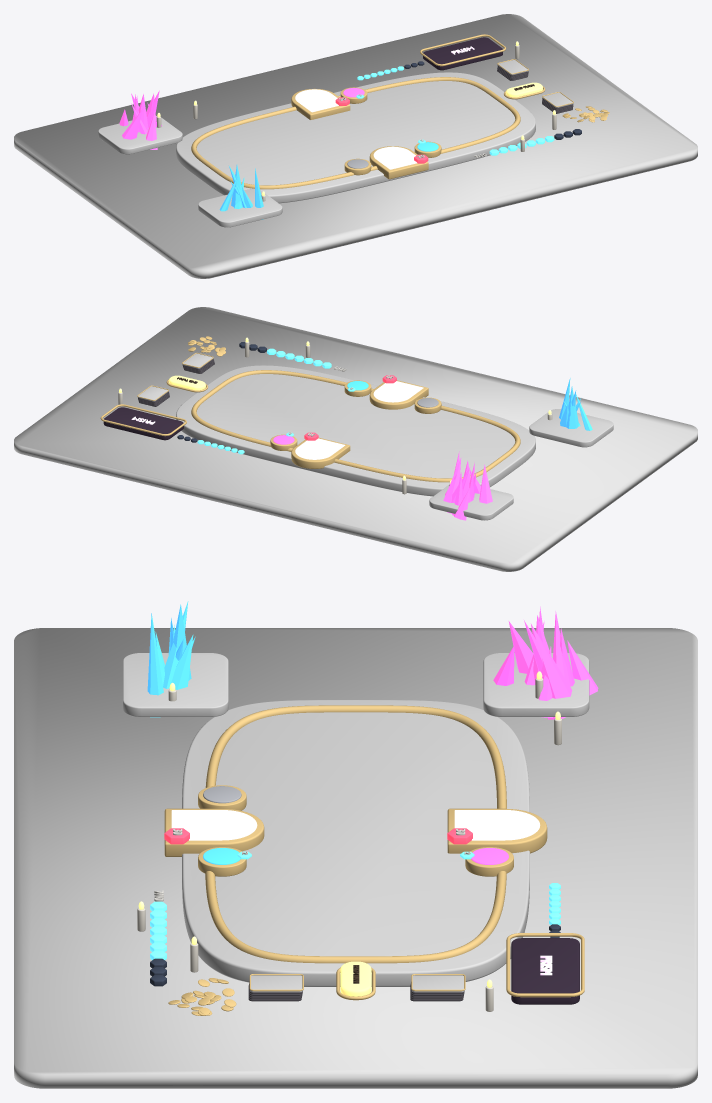
File: arena.glb
3 views of the same model, one above another, from view 1: azimuth 30°, elevation 25°; view 2: azimuth 150°, elevation 25°; view 3: azimuth 270°, elevation 25° (orthographic). The views are drawn at different scales.
Visible parts, largest first — view 1: B_ground, B_terrace, B_rim_outer, B_plinth_bl, B_plinth_tl, B_sign_panel, B_hero_portrait_opp, B_hero_portrait_player, B_hero_frame_player, B_hero_frame_opp, B_sign_frame; view 2: B_ground, B_terrace, B_rim_outer, B_plinth_bl, B_sign_panel, B_plinth_tl, B_hero_portrait_opp, B_hero_portrait_player, B_hero_frame_opp, B_hero_frame_player, B_sign_frame; view 3: B_ground, B_terrace, B_rim_outer, B_plinth_bl, B_sign_panel, B_plinth_tl, B_hero_portrait_player, B_hero_portrait_opp, B_hero_frame_player, B_hero_frame_opp, B_sign_frame, B_end_turn (+4 smaller).
Boxes of the visible parts, x1,y1,x2,y2 form: B_ground: (14,14,697,278); B_terrace: (176,72,535,203); B_rim_outer: (191,77,520,189); B_plinth_bl: (198,189,282,227); B_plinth_tl: (98,116,182,154); B_sign_panel: (423,37,502,70); B_hero_portrait_opp: (295,89,338,112); B_hero_portrait_player: (373,146,416,169); B_hero_frame_player: (369,146,428,179); B_hero_frame_opp: (291,88,350,119); B_sign_frame: (420,34,506,66); B_ground: (14,307,697,571); B_terrace: (176,365,535,496); B_rim_outer: (191,370,520,482); B_plinth_bl: (529,409,613,447); B_sign_panel: (103,407,183,440); B_plinth_tl: (429,485,513,520); B_hero_portrait_opp: (295,438,345,459); B_hero_portrait_player: (373,381,423,402); B_hero_frame_opp: (291,437,350,468); B_hero_frame_player: (369,380,428,409); B_sign_frame: (100,404,186,436); B_ground: (14,628,697,1088); B_terrace: (182,700,529,986); B_rim_outer: (205,705,506,963); B_plinth_bl: (123,653,228,716); B_sign_panel: (511,938,579,1004); B_plinth_tl: (483,653,589,716); B_hero_portrait_player: (171,810,257,840); B_hero_portrait_opp: (454,810,540,840); B_hero_frame_player: (164,808,264,856); B_hero_frame_opp: (447,808,547,853); B_sign_frame: (506,933,584,997); B_end_turn: (340,961,371,996).
Size of the model in its own units: 34 by 4.06 by 22.
